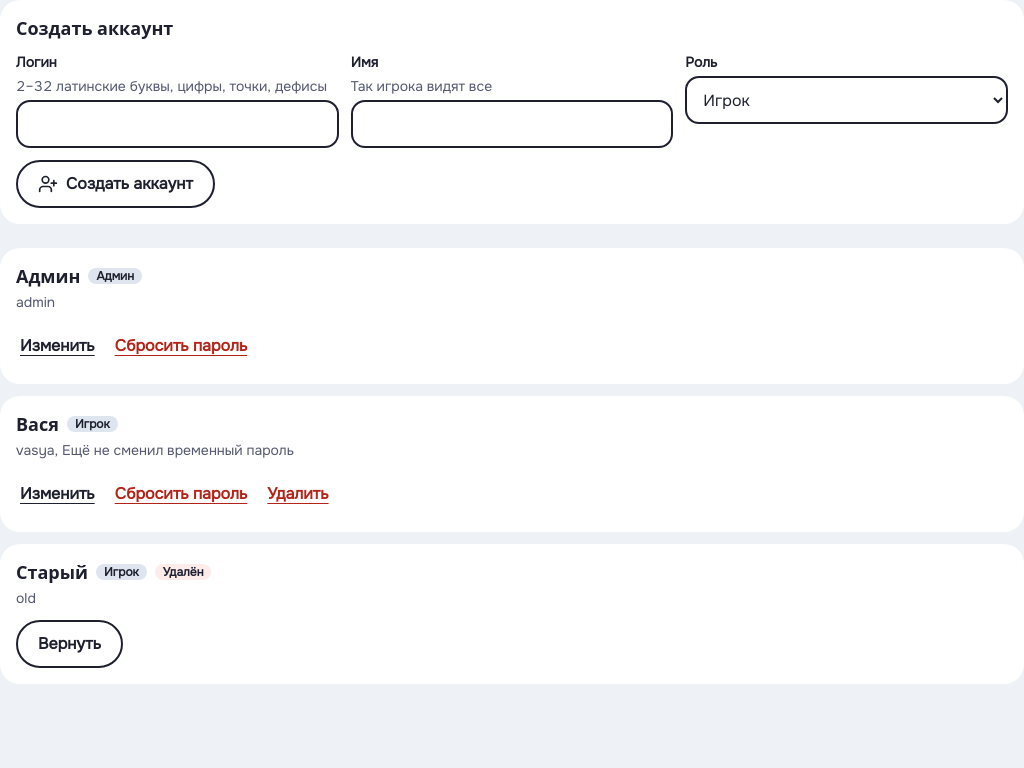
Test: The accounts › resets a password after a confirmation and shows the new one
What coordinates should you click on to do the following:
click the button with test id "account-reset"
I would click on:
 (181, 494)
Its box is [111,472,251,516].
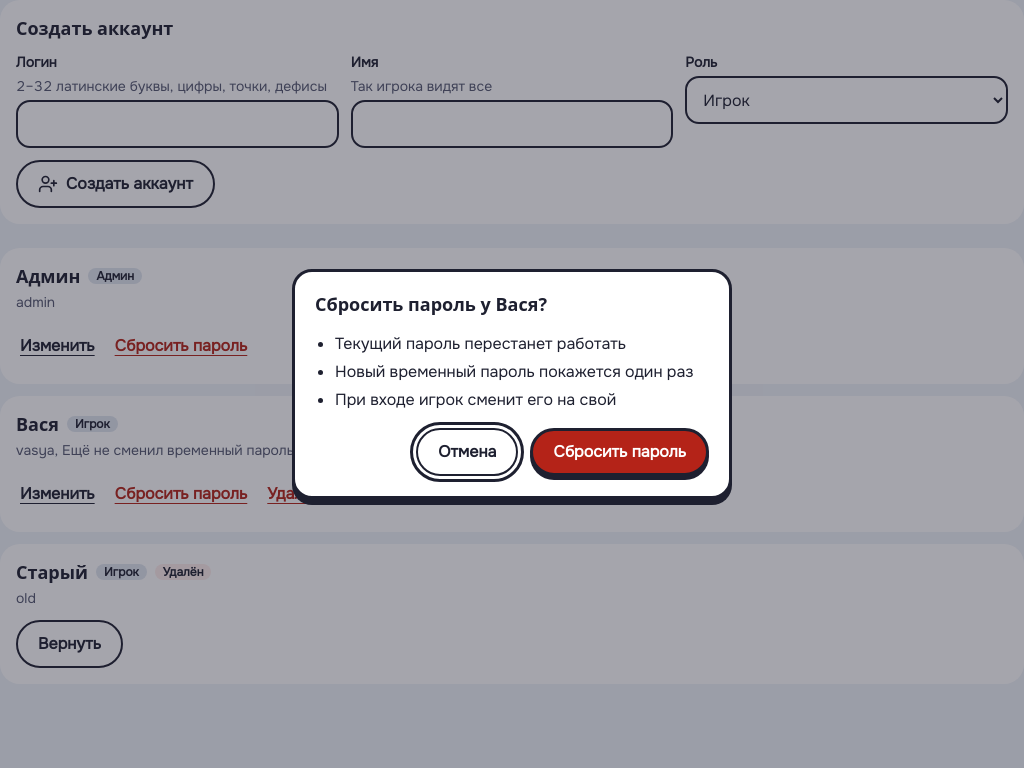
Check: the list item "Текущий пароль перестанет работать" is shown, box [335,333,626,354]
What coordinates should you click on to do the following:
click the button "Сбросить пароль"
I would click on:
 (620, 452)
Its box is [530,428,709,476].
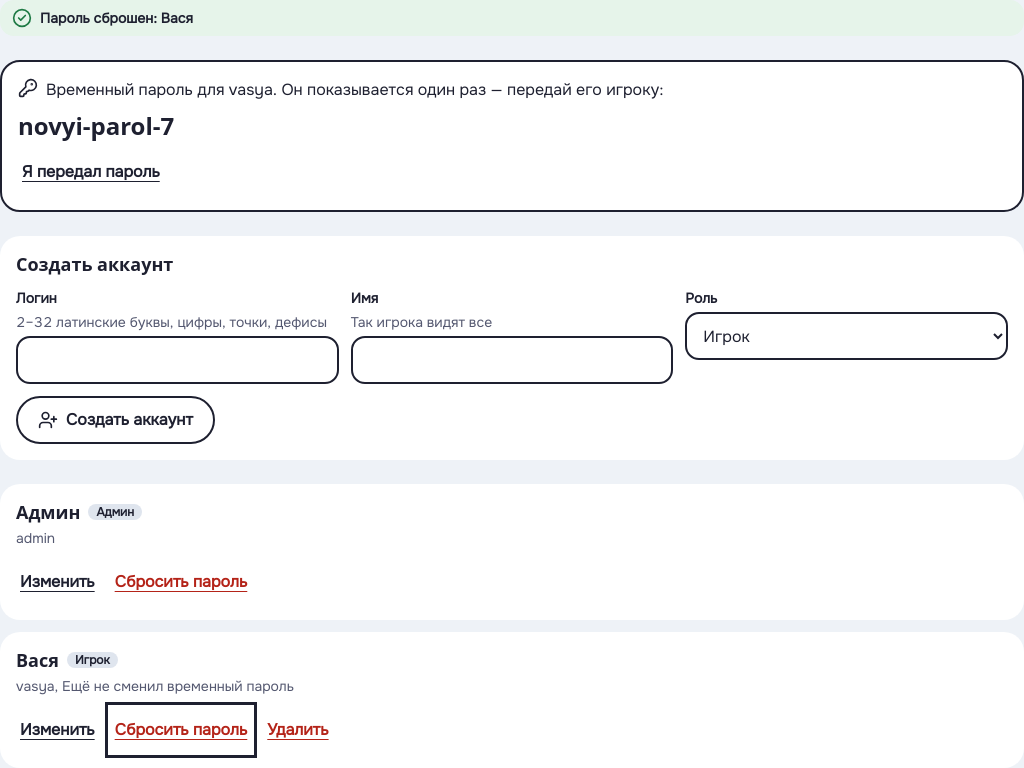
Check: the element with test id "temporary-password" shows "novyi-parol-7", box [18,109,174,142]
